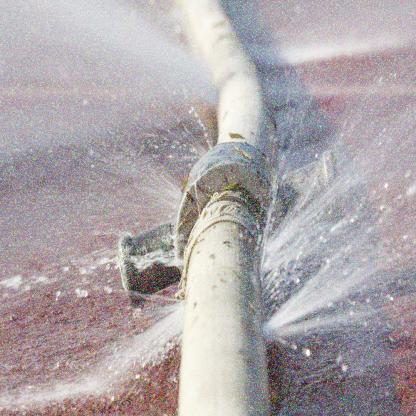burst: (156, 150, 289, 368)
